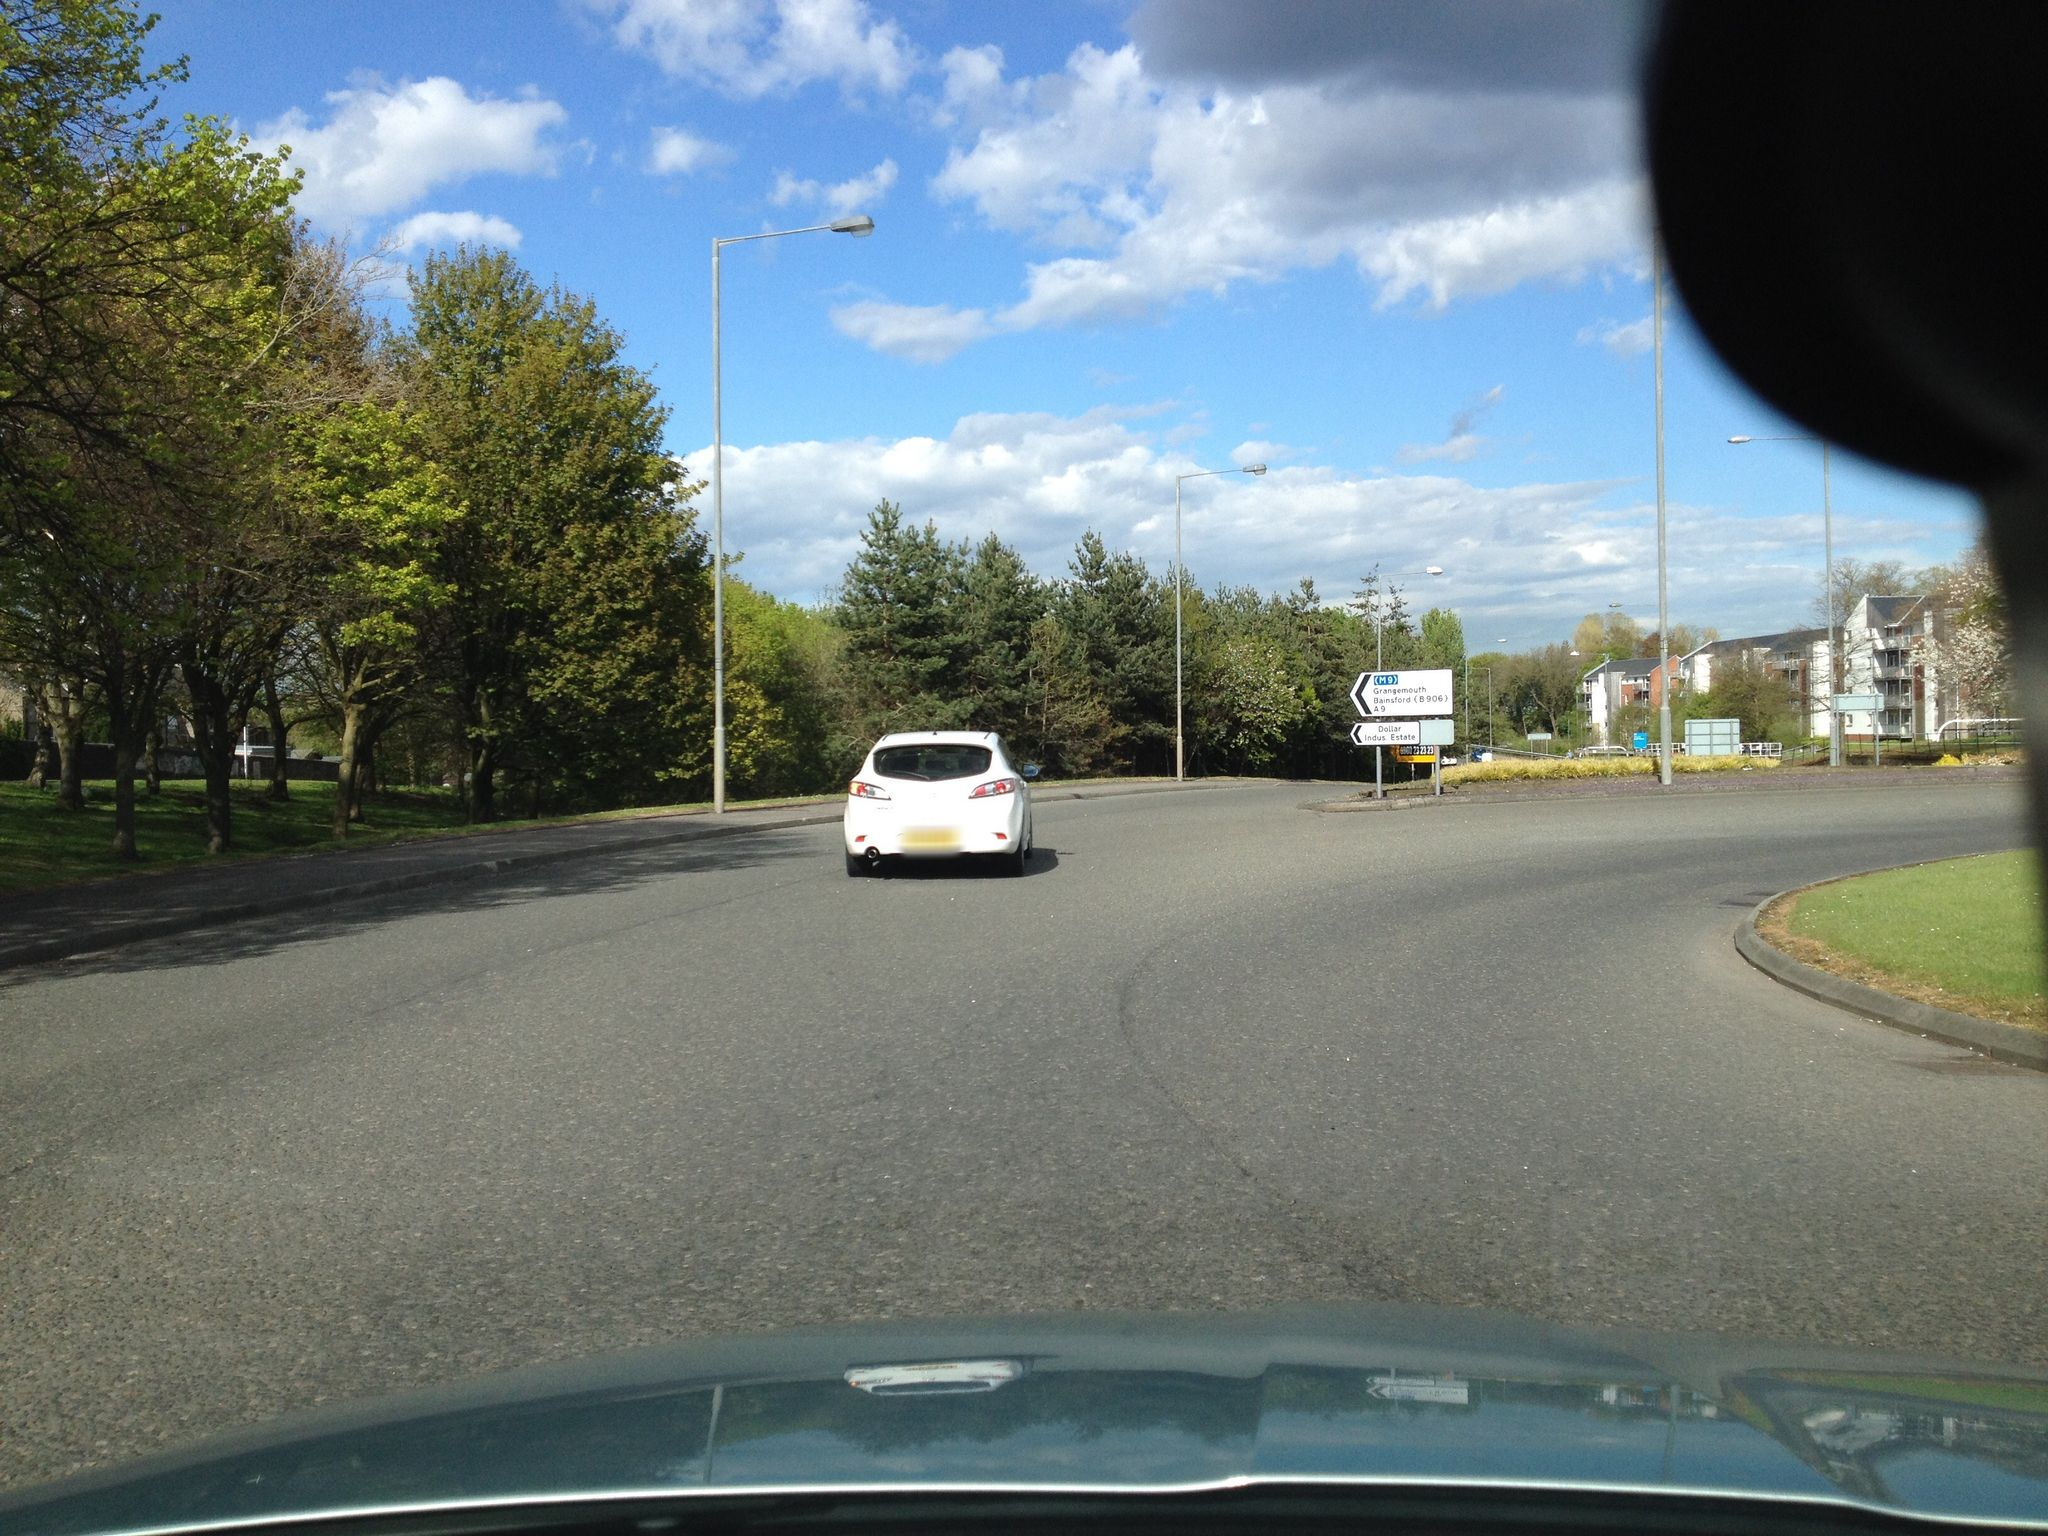car: (842, 731, 1039, 871)
